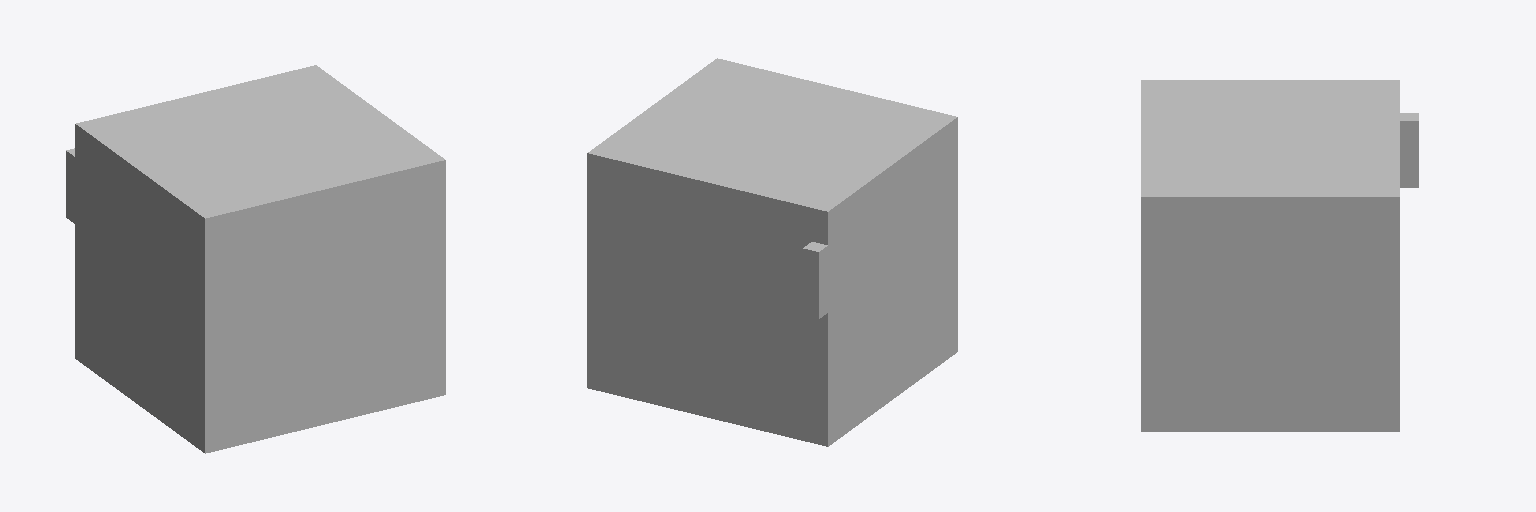
File: chest_left.obj
3 views of the same model, side by side, from view 1: azimuth 30°, elevation 25°; view 2: azimuth 150°, elevation 25°; view 3: azimuth 270°, elevation 25° (orthographic).
Parts seen in each view (by area): view 1: cube.001, cube, cube.002; view 2: cube.001, cube, cube.002; view 3: cube.001, cube, cube.002.
Boxes of the visible parts, x1,y1,x2,y2 form: cube.001: [75, 65, 445, 302]; cube: [75, 208, 445, 453]; cube.002: [66, 148, 74, 223]; cube.001: [587, 58, 957, 295]; cube: [587, 201, 957, 446]; cube.002: [803, 242, 827, 318]; cube.001: [1141, 80, 1399, 280]; cube: [1141, 281, 1399, 431]; cube.002: [1400, 113, 1418, 187].
Bounding box in the file's own units: 0.9375 × 0.875 × 0.9375.